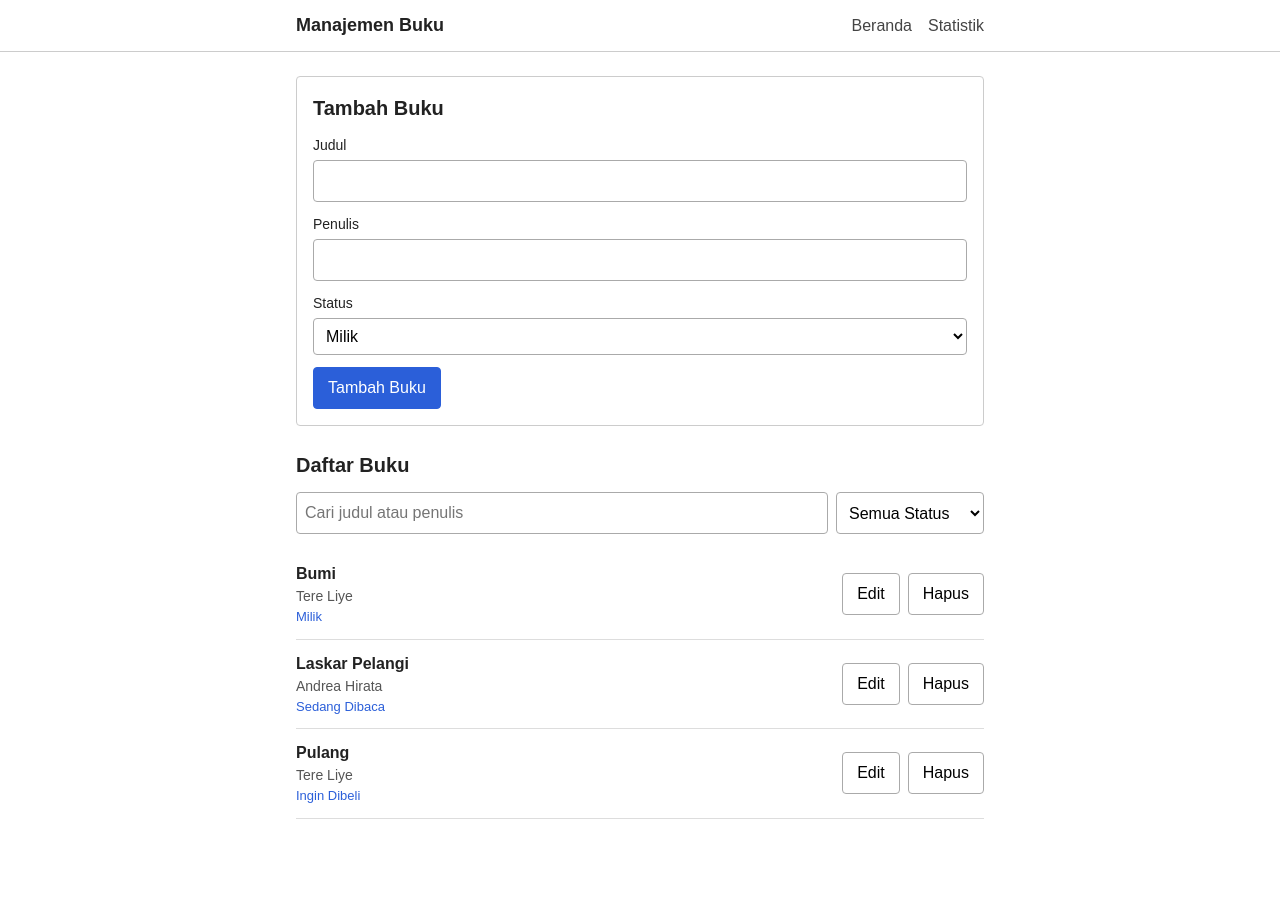
it: Aplikasi Manajemen Buku › pencarian berdasarkan judul atau nama penulis
This screenshot has width=1280, height=900.
# cari lewat nama penulis
Type "tere" into the field named "Cari buku" at (562,513), box x1=296 y1=492 x2=828 y2=534
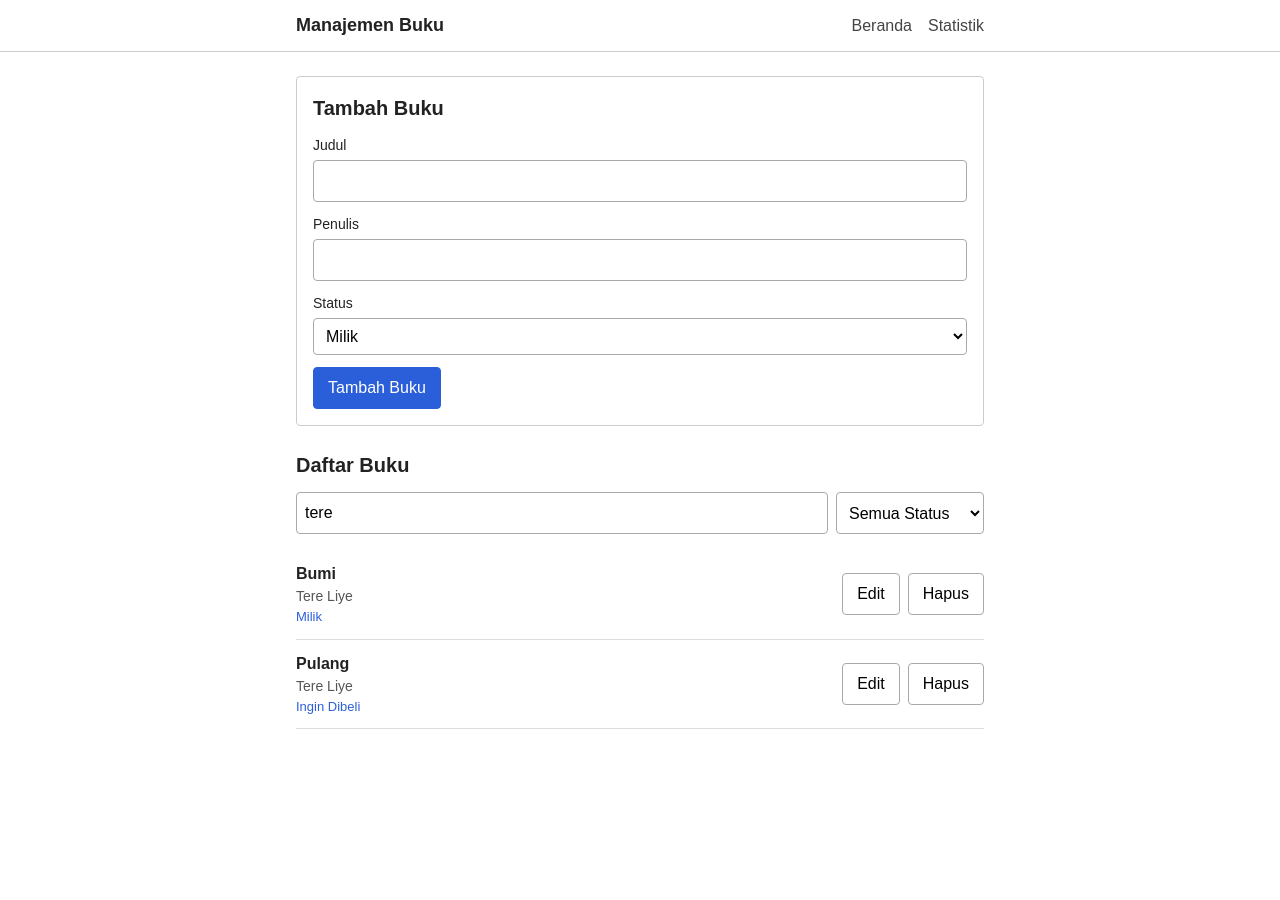
Check: the text "Bumi" is shown, box x1=296 y1=565 x2=336 y2=582
Check: the text "Laskar Pelangi" is gone
# cari lewat judul
Replace the text in the field named "Cari buku" with "laskar" at (562,513), box x1=296 y1=492 x2=828 y2=534
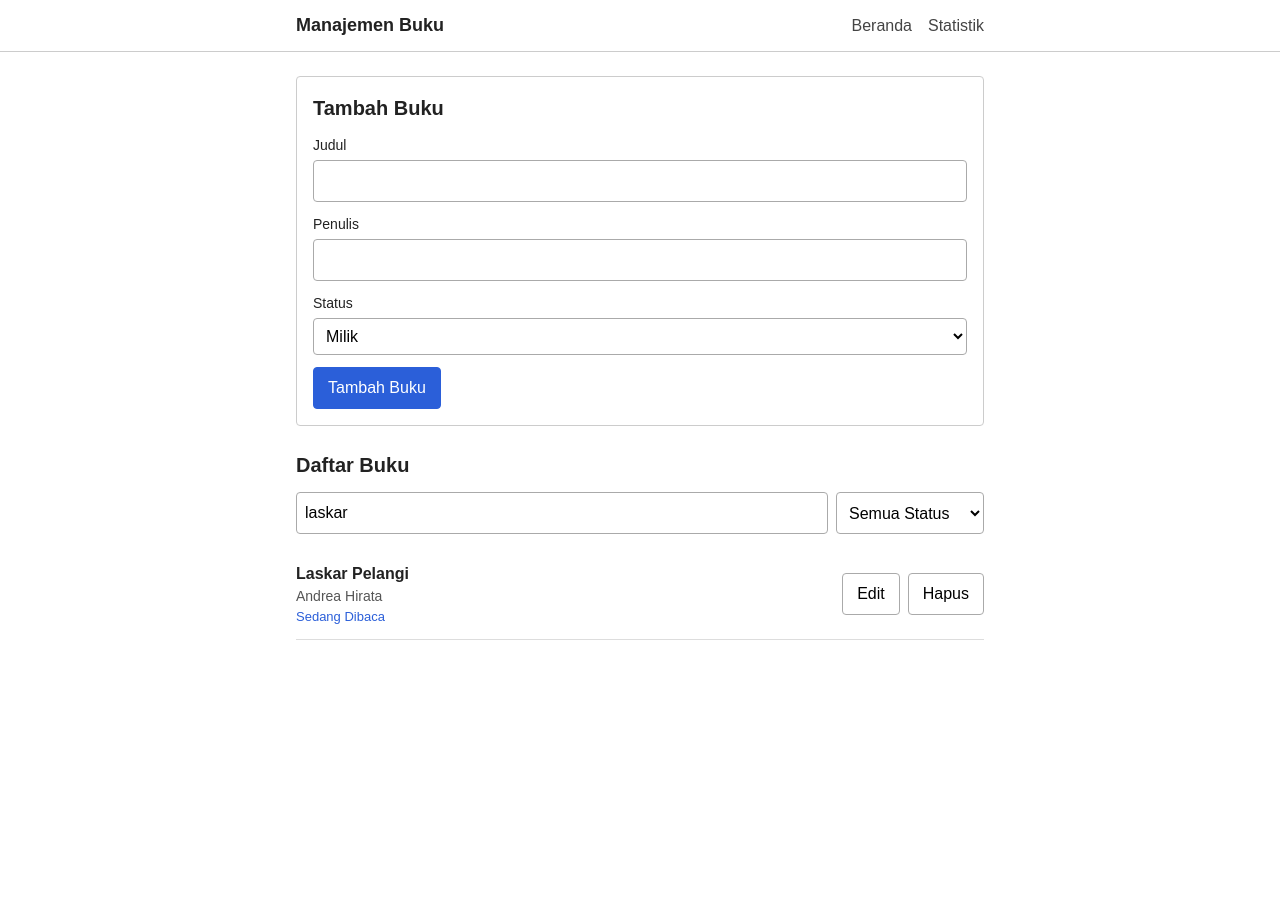
Check: the text "Laskar Pelangi" is shown, box x1=296 y1=562 x2=409 y2=586
Check: the text "Bumi" is gone
